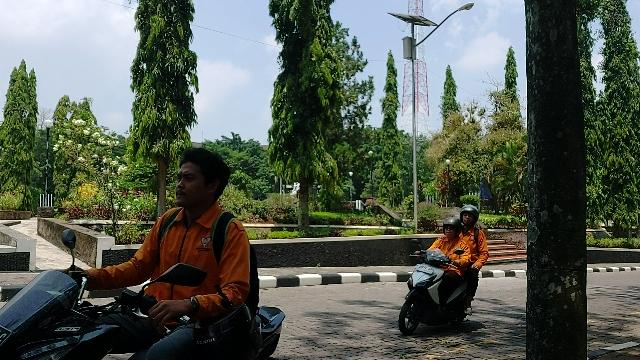helm: (462, 206, 480, 226), (444, 219, 462, 238)
motor: (2, 275, 285, 360), (400, 251, 477, 333)
non-helm: (176, 147, 229, 209)
